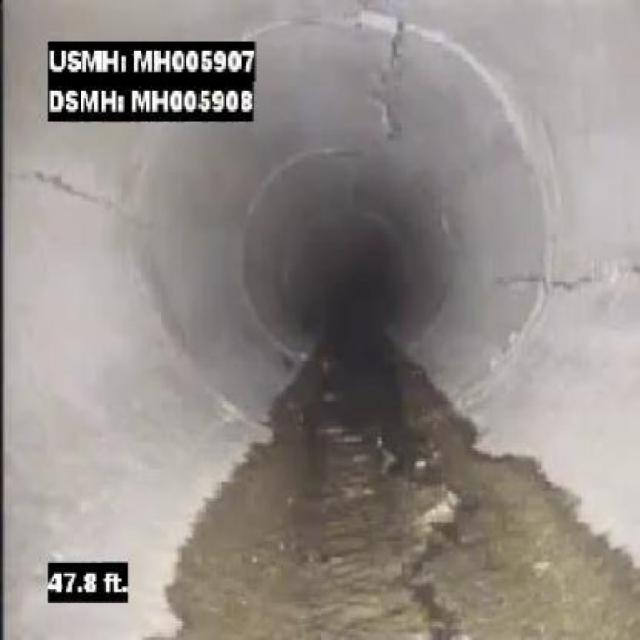Buckling: (380, 452, 468, 636)
Crack: (371, 15, 415, 150), (31, 163, 120, 220), (494, 266, 612, 297)
